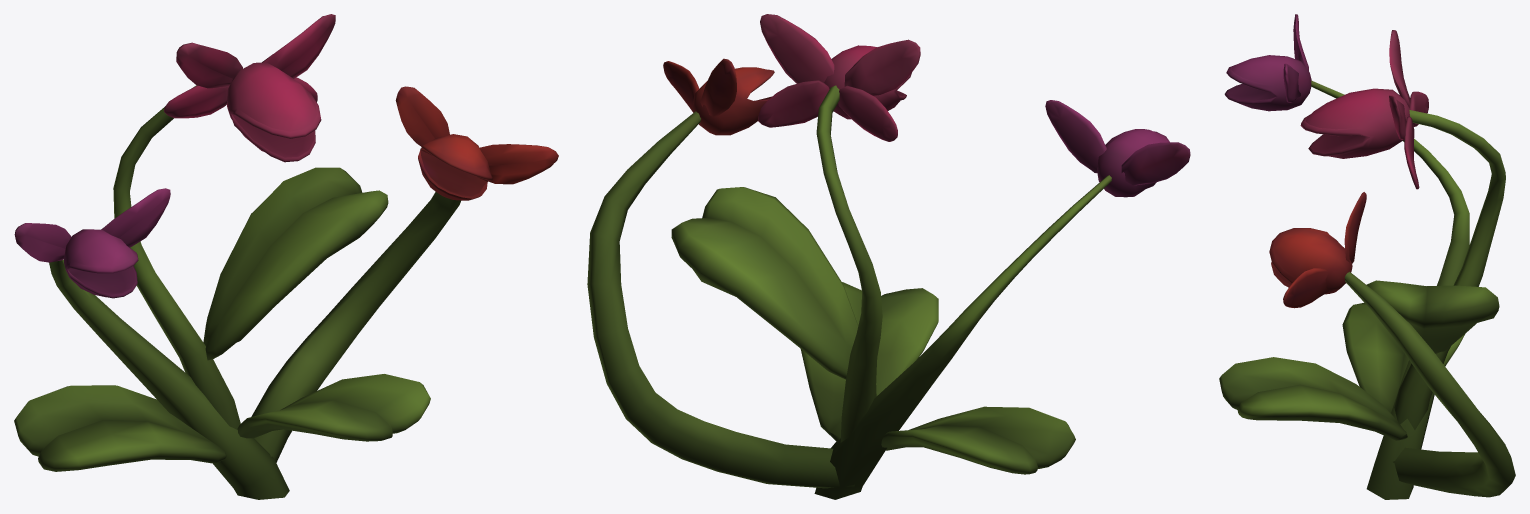
File: Plant_29.fbx
3 renders of one model, left to right at view 1: azimuth 30°, elevation 25°; view 2: azimuth 150°, elevation 25°; view 3: azimuth 270°, elevation 25°, orthographic. The views are drawn at different scales.
Parts seen in each view (by area): view 1: Plant_29; view 2: Plant_29; view 3: Plant_29.
Part boxes in pixels (x1,y1,x2,y2): Plant_29: (14, 14, 558, 499); Plant_29: (587, 14, 1190, 499); Plant_29: (1219, 14, 1515, 499).
Size of the model in its own units: 5.63 by 4.71 by 2.96.
